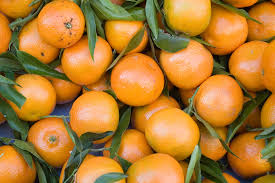orange: (155, 31, 216, 86), (143, 107, 201, 156), (110, 56, 165, 107), (193, 73, 245, 124), (9, 71, 61, 120), (59, 37, 112, 85), (70, 93, 118, 145)
